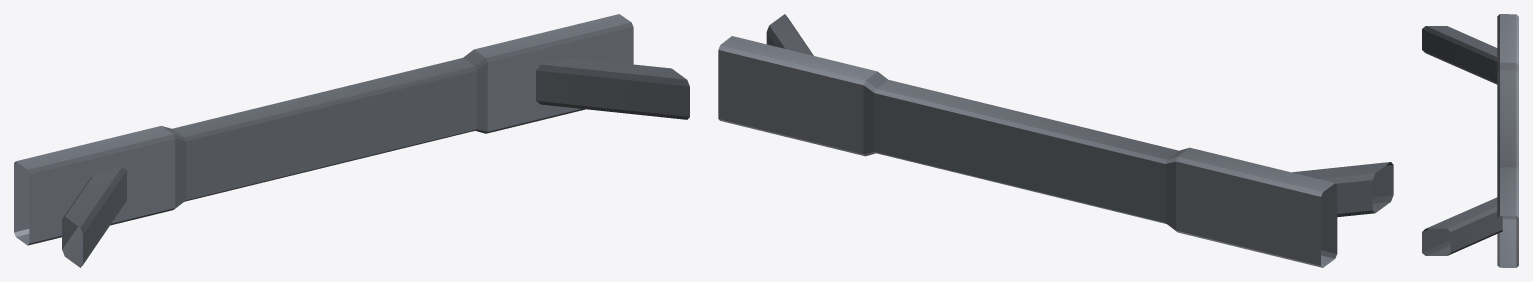
File: Beam 01.FBX
3 renders of one model, left to right at view 1: azimuth 30°, elevation 25°; view 2: azimuth 150°, elevation 25°; view 3: azimuth 270°, elevation 25°, orthographic. The views are drawn at different scales.
Parts seen in each view (by area): view 1: Beam 01; view 2: Beam 01; view 3: Beam 01.
Part boxes in pixels (x1=…): Beam 01: x1=14, y1=14, x2=689, y2=267; Beam 01: x1=718, y1=14, x2=1393, y2=267; Beam 01: x1=1422, y1=14, x2=1518, y2=267.
Bounding box in the file's own units: 369 × 44.26 × 74.56.
